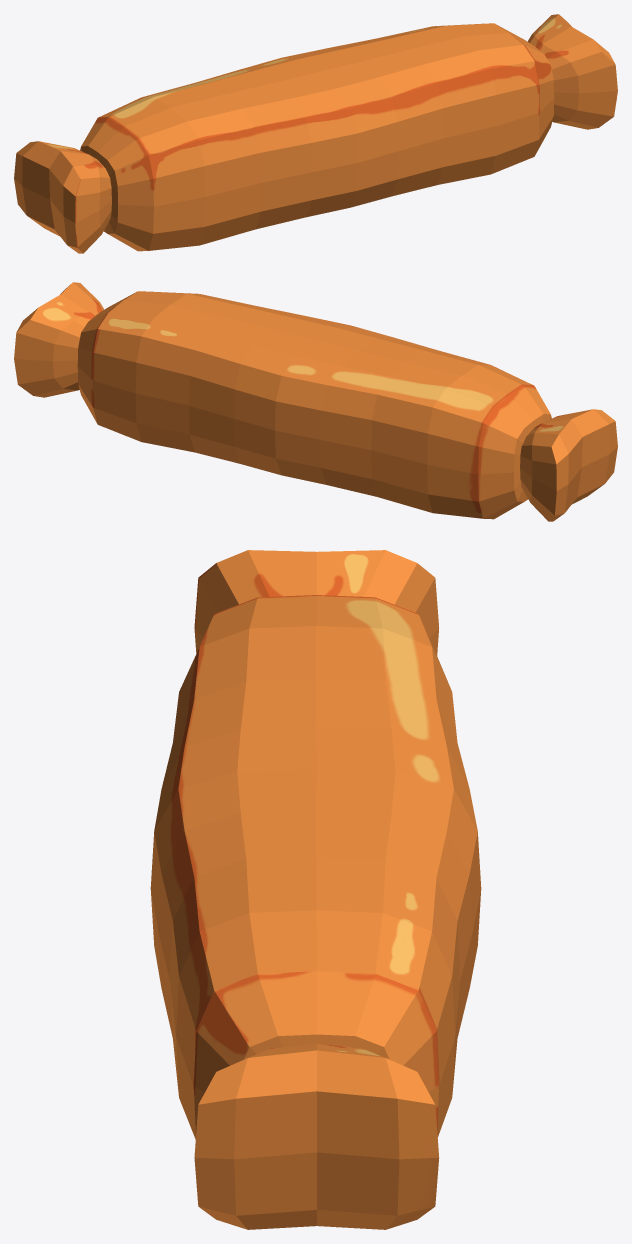
The model's file is balloon.fbx.
3 renders of one model, top to bottom at view 1: azimuth 30°, elevation 25°; view 2: azimuth 150°, elevation 25°; view 3: azimuth 270°, elevation 25°, orthographic. The views are drawn at different scales.
Parts seen in each view (by area): view 1: Balloon; view 2: Balloon; view 3: Balloon.
Boxes of the visible parts, bbox=[...] form: Balloon: bbox=[14, 14, 617, 253]; Balloon: bbox=[14, 282, 617, 521]; Balloon: bbox=[150, 550, 481, 1229].
Bounding box in the file's own units: 137 × 30.34 × 35.81.
